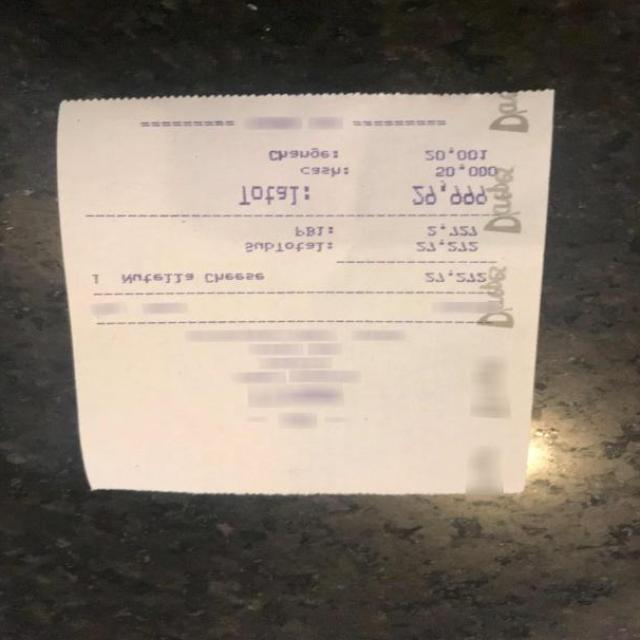kertas: (57, 90, 555, 495)
